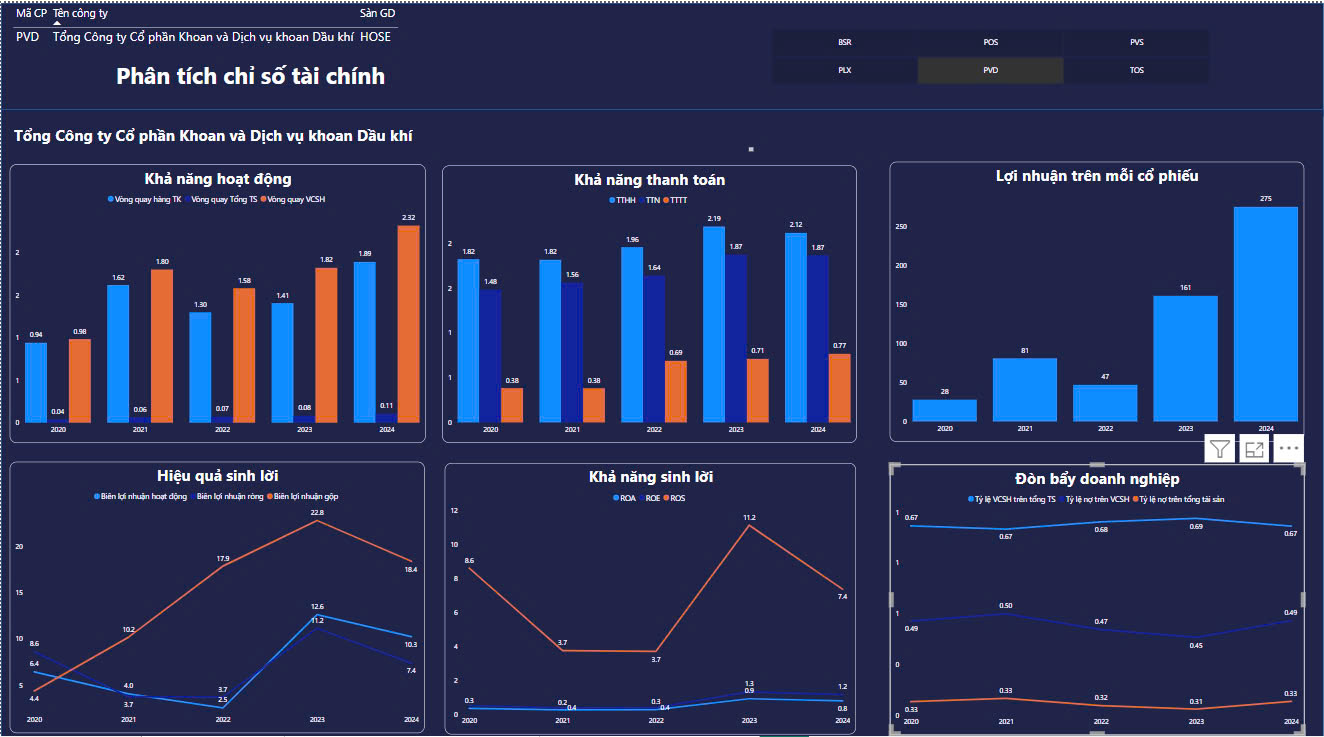

The dashboard page shown, as its layout file describes it:
{"tool":"powerbi","page":{"name":"Phân tích chỉ số tài chính","canvas":[2300,1400],"ordinal":2},"visuals":[{"type":"shape","title":"OverView","box":[0,0,2300,197.4],"z":0},{"type":"shape","box":[0,184.6,2300,1159],"z":1000},{"type":"slicer","fields":{"Values":["dim_company.symbol"]},"box":[1315.4,38.5,810.3,107.7],"z":2000},{"type":"clusteredColumnChart","title":"Khả năng hoạt động","fields":{"Y":["fact_financialaccount.Vòng quay hàng TK","fact_financialaccount.Vòng quay Tổng TS","fact_financialaccount.Vòng quay VCSH"],"Category":["dim_date.year"]},"box":[15.4,279.5,723.1,484.6],"z":3000},{"type":"clusteredColumnChart","title":"Khả năng thanh toán","fields":{"Category":["dim_date.year"],"Y":["fact_financialaccount.Chỉ số thanh toán hiện hành","fact_financialaccount.Chỉ số thanh toán nhanh","fact_financialaccount.Chỉ số thanh toán tức thời"]},"box":[766.7,282.1,720.5,482.1],"z":4000},{"type":"lineChart","title":"Khả năng sinh lời","fields":{"Y":["fact_financialaccount.ROA","fact_financialaccount.ROE","fact_financialaccount.ROS"],"Category":["dim_date.year"]},"box":[771.7,800,715.2,471.7],"z":5000},{"type":"tableEx","fields":{"Values":["dim_company.symbol","dim_company.organ_name","dim_exchange.exchange"]},"box":[15.4,0,1028.8,78.8],"z":6000},{"type":"lineChart","title":"Hiệu quả sinh lời","fields":{"Category":["dim_date.year"],"Y":["fact_financialaccount.Biên lợi nhuận hoạt động","fact_financialaccount.Biên lợi nhuận ròng","fact_financialaccount.Biên lợi nhuận gộp"]},"box":[15.2,797.8,721.7,471.7],"z":7000},{"type":"textbox","box":[17.3,211.5,1296.2,51.9],"z":8000},{"type":"columnChart","title":"Lợi nhuận trên mỗi cổ phiếu","fields":{"Category":["dim_date.year"],"Y":["fact_financialaccount.EPS"]},"box":[1546.2,276.9,720.5,487.2],"z":9000},{"type":"lineChart","title":"Đòn bẩy doanh nghiệp","fields":{"Category":["dim_date.year"],"Y":["fact_financialaccount.Tỷ lệ VCSH trên tổng TS","fact_financialaccount.Tỷ lệ nợ trên VCSH","fact_financialaccount.Tỷ lệ nợ trên tổng tài sản"]},"box":[1545.7,802.2,721.7,471.7],"z":10000}]}

Visuals, with their boxes on the page's 2300x1400 design canvas (x1, y1, x2, y2). These are canvas units, not pixel positions in the 1324x737 screenshot, which may show the page scaled, cropped or inside an application window:
"OverView" shape: locate(0, 0, 2300, 197)
shape: locate(0, 185, 2300, 1344)
slicer - dim_company.symbol: locate(1315, 38, 2126, 146)
"Khả năng hoạt động" clusteredColumnChart: locate(15, 280, 738, 764)
"Khả năng thanh toán" clusteredColumnChart: locate(767, 282, 1487, 764)
"Khả năng sinh lời" lineChart: locate(772, 800, 1487, 1272)
tableEx - dim_company.symbol x dim_company.organ_name: locate(15, 0, 1044, 79)
"Hiệu quả sinh lời" lineChart: locate(15, 798, 737, 1270)
textbox: locate(17, 212, 1314, 263)
"Lợi nhuận trên mỗi cổ phiếu" columnChart: locate(1546, 277, 2267, 764)
"Đòn bẩy doanh nghiệp" lineChart: locate(1546, 802, 2267, 1274)
